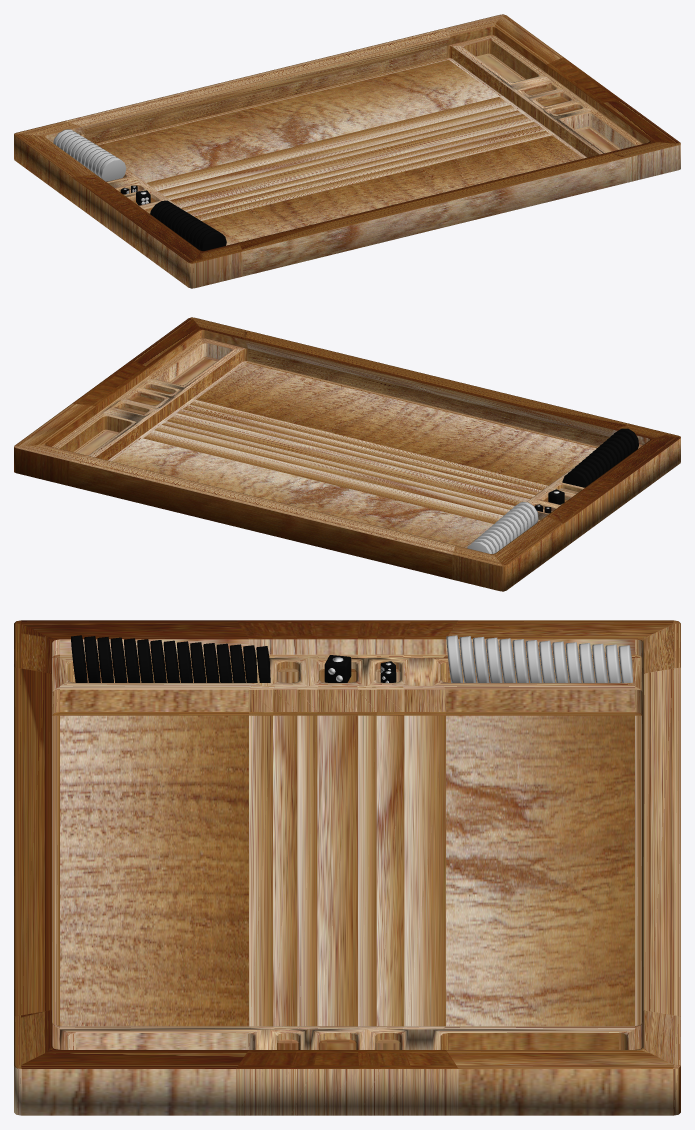
File: Nardi_LODGroup.fbx
3 views of the same model, one above another, from view 1: azimuth 30°, elevation 25°; view 2: azimuth 150°, elevation 25°; view 3: azimuth 270°, elevation 25° (orthographic). The views are drawn at different scales.
Visible parts, largest first — view 1: Nardi_LOD0; view 2: Nardi_LOD0; view 3: Nardi_LOD0.
Part boxes in pixels (x1,y1,x2,y2): Nardi_LOD0: (14,14,680,288); Nardi_LOD0: (14,317,680,591); Nardi_LOD0: (14,620,680,1115).
Size of what is drawn, in the model's own units: 50.17 by 3.45 by 31.52.
